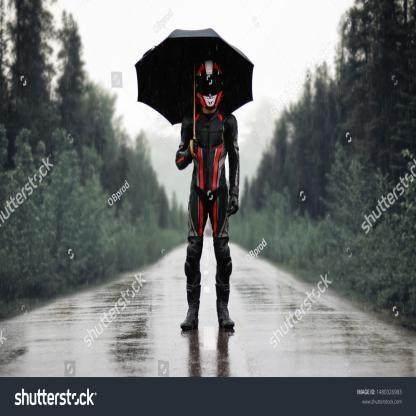Umbrella: (126, 18, 264, 133)
